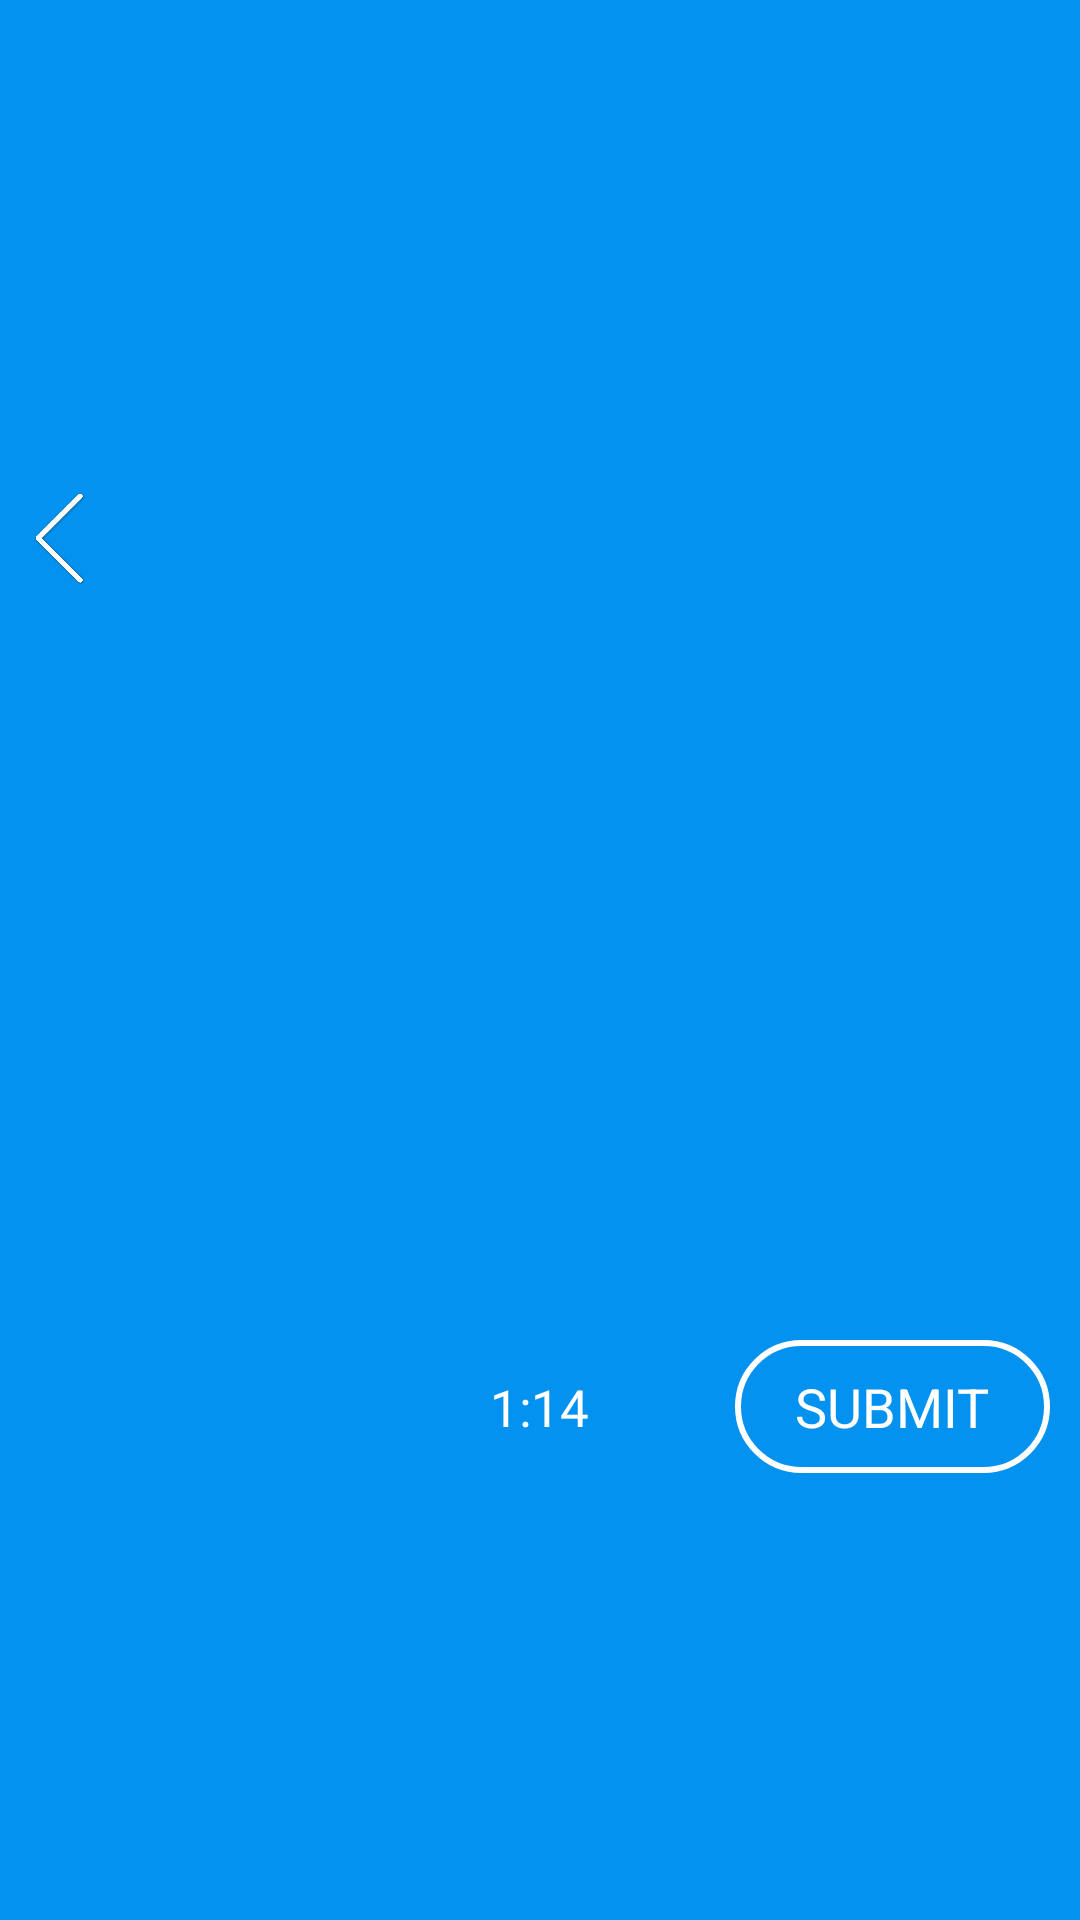

Locate icon controls on the screen. Image size 1080×1920, boxes as (x1, y1, x2, y2).
back: (35, 494, 84, 584)
